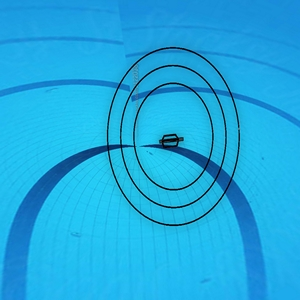circle: (94, 41, 244, 239)
submarine: (156, 132, 187, 149)
